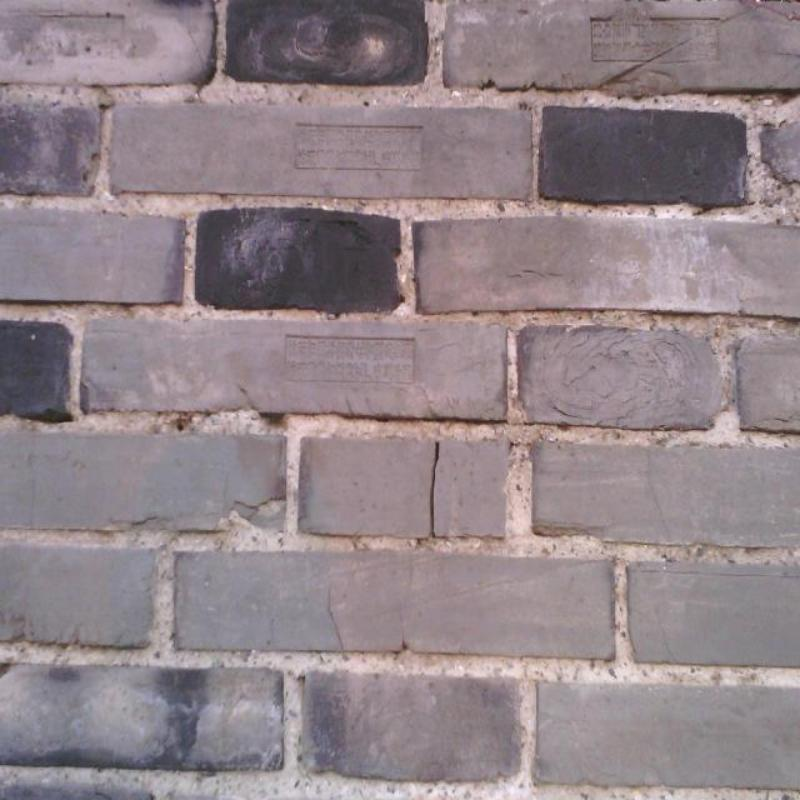pothole: (647, 450, 673, 539), (399, 552, 415, 649), (187, 8, 208, 72), (328, 587, 343, 649), (430, 442, 439, 534)
